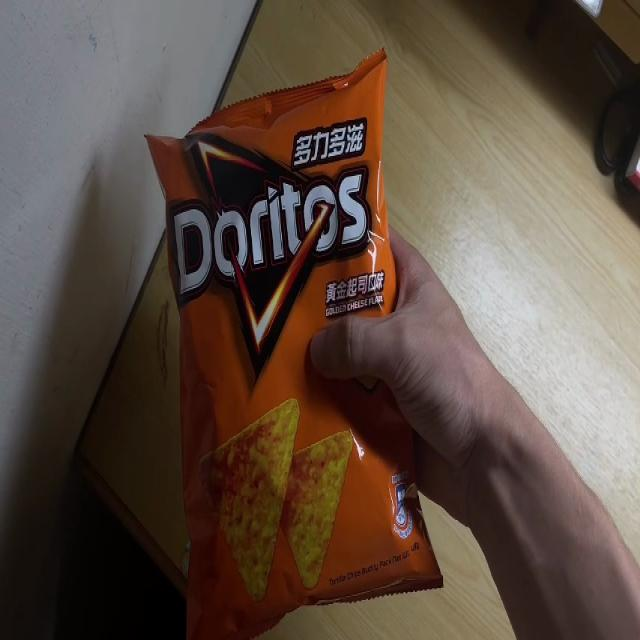Doritos: (145, 47, 443, 640)
